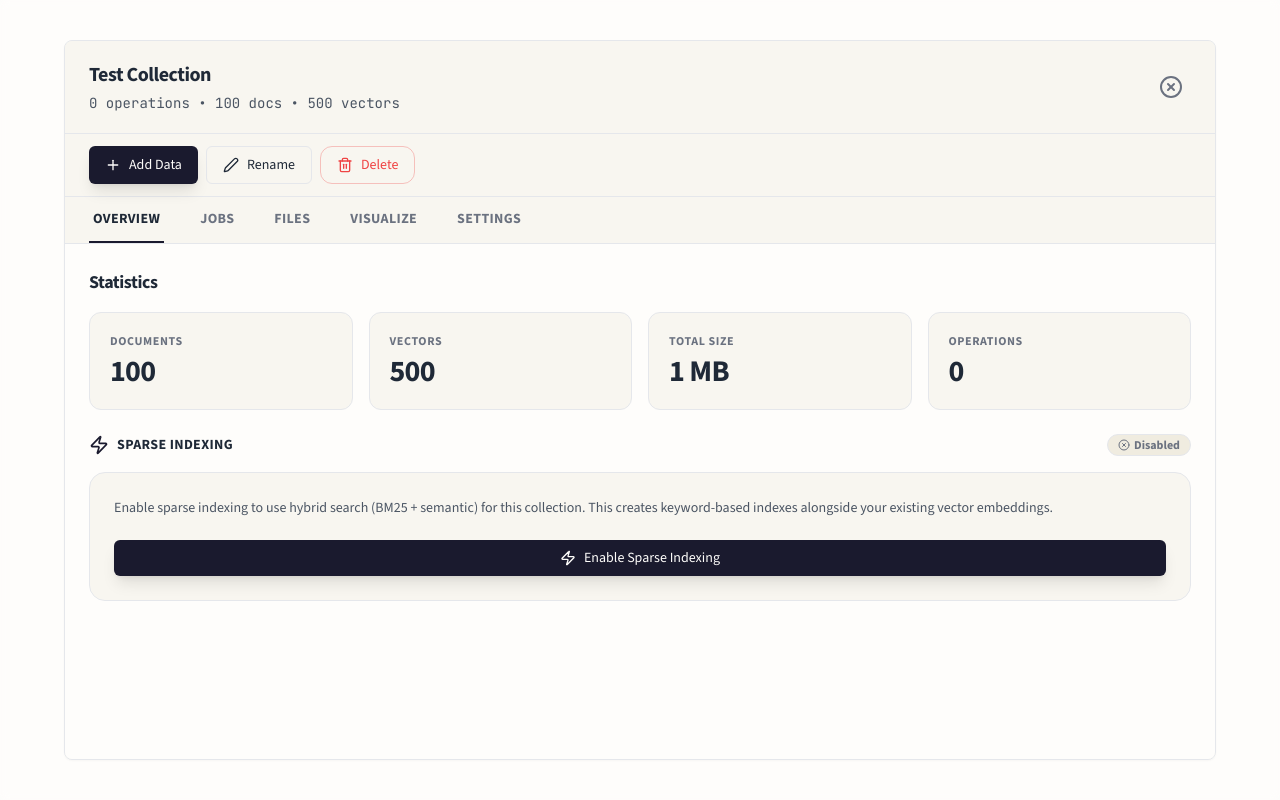
CollectionDetailsModal › Tab Navigation › should switch to settings tab
What coordinates should you click on to do the following:
click the button "Settings"
I would click on:
 (489, 220)
Its box is [453,197,525,243].
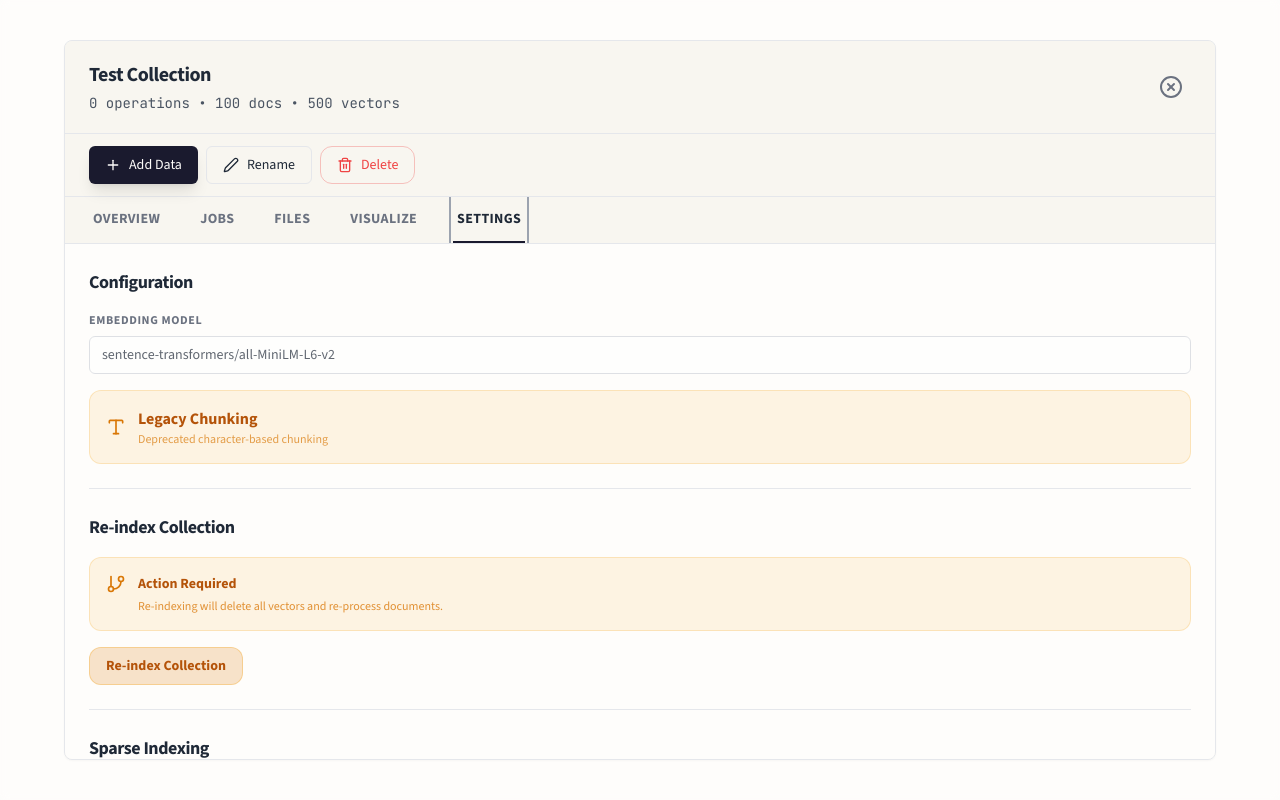
Expected: the heading "Configuration" is shown, [89,270,193,294]
Expected: the text "Embedding Model" is shown, [89,312,202,328]
Expected: the button "Re-index Collection" is shown, [89,647,243,685]
